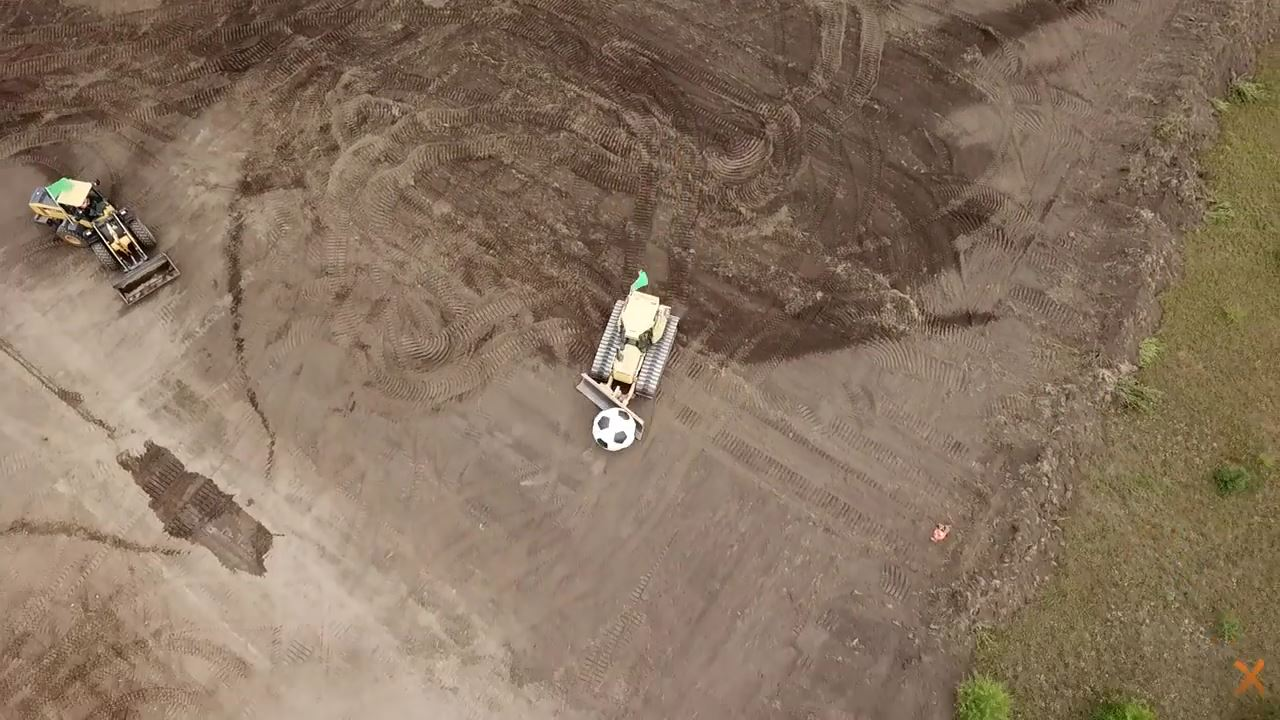con_eq: (26, 171, 183, 308), (573, 288, 679, 445)
